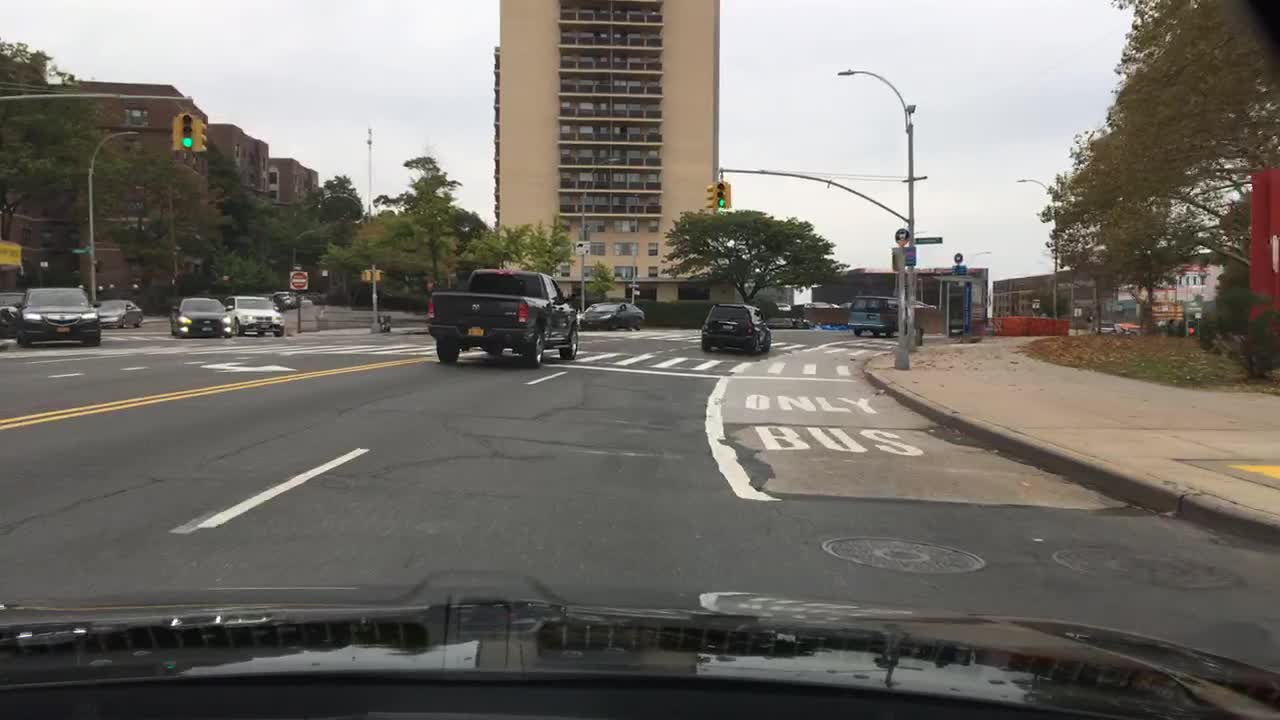car: (15, 283, 101, 349), (698, 297, 773, 354), (165, 295, 233, 341), (843, 293, 903, 341), (221, 295, 287, 337), (577, 300, 646, 334), (93, 299, 147, 331), (1164, 315, 1201, 334), (0, 302, 20, 337), (266, 288, 297, 307), (1090, 319, 1119, 334), (771, 316, 796, 329), (794, 317, 811, 328)
traffic light: (195, 118, 211, 153), (179, 111, 194, 148), (168, 111, 179, 152), (703, 180, 715, 211), (712, 180, 725, 206), (357, 266, 369, 285), (725, 184, 732, 209), (374, 266, 383, 282)
traffic sign: (891, 245, 914, 268), (287, 268, 309, 288), (913, 233, 941, 246), (951, 253, 967, 275), (573, 239, 590, 255), (894, 226, 909, 241), (71, 245, 91, 255), (626, 280, 641, 288)
truck: (425, 268, 580, 368)
